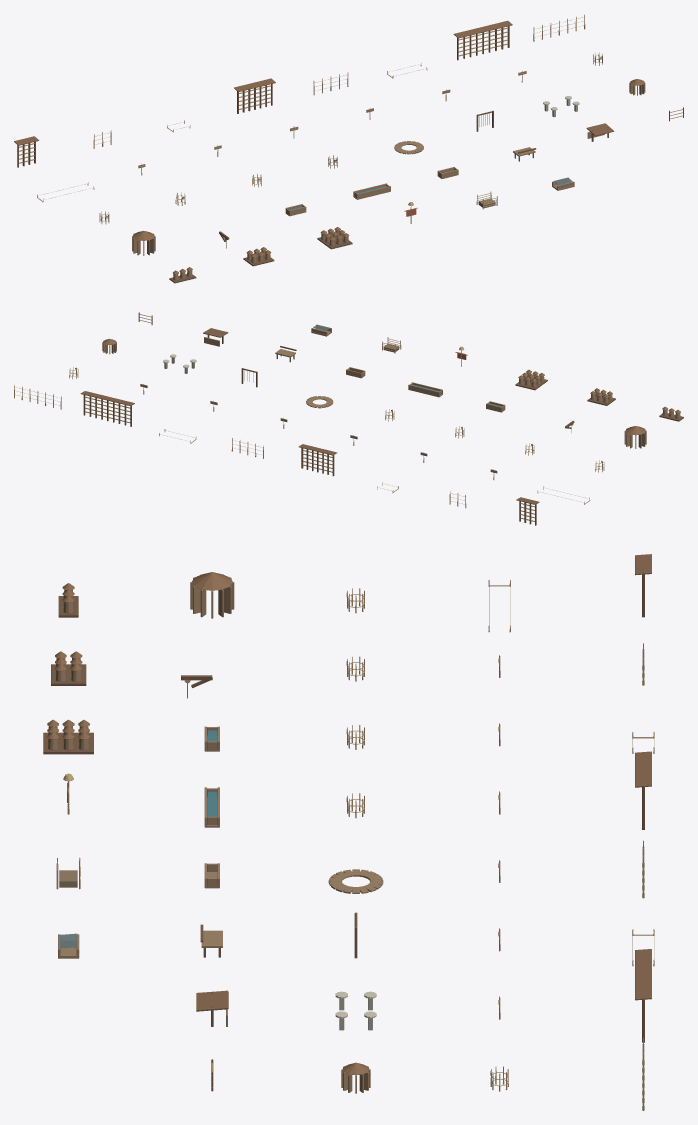
The model's file is agriculture.glb.
3 views of the same model, one above another, from view 1: azimuth 30°, elevation 25°; view 2: azimuth 150°, elevation 25°; view 3: azimuth 270°, elevation 25° (orthographic). The views are drawn at different scales.
Visible parts, largest first — view 1: GK_agri_hayrack_6m, GK_agri_hayrack_4m, GK_agri_apiary_stand_9, GK_agri_grain_bin_large, GK_agri_hayrack_2m; view 2: GK_agri_hayrack_6m, GK_agri_hayrack_4m, GK_agri_apiary_stand_9, GK_agri_grain_bin_large, GK_agri_hayrack_2m; view 3: GK_agri_grain_bin_large, GK_agri_apiary_stand_9, GK_agri_apiary_stand_6, GK_agri_hayrack_6m, GK_agri_threshed_floor_round.
Boxes of the visible parts, bbox=[...] form: GK_agri_hayrack_6m: bbox=[453, 20, 512, 60]; GK_agri_hayrack_4m: bbox=[234, 78, 275, 113]; GK_agri_apiary_stand_9: bbox=[317, 227, 352, 249]; GK_agri_grain_bin_large: bbox=[132, 230, 155, 255]; GK_agri_hayrack_2m: bbox=[14, 136, 39, 167]; GK_agri_hayrack_6m: bbox=[80, 391, 134, 426]; GK_agri_hayrack_4m: bbox=[298, 444, 337, 476]; GK_agri_apiary_stand_9: bbox=[515, 369, 547, 390]; GK_agri_grain_bin_large: bbox=[624, 426, 646, 448]; GK_agri_hayrack_2m: bbox=[516, 497, 539, 525]; GK_agri_grain_bin_large: bbox=[190, 572, 234, 618]; GK_agri_apiary_stand_9: bbox=[43, 719, 93, 754]; GK_agri_apiary_stand_6: bbox=[51, 651, 86, 685]; GK_agri_hayrack_6m: bbox=[635, 949, 651, 1042]; GK_agri_threshed_floor_round: bbox=[328, 869, 383, 893].
Size of the model in its own units: 69.11 by 4.11 by 34.04.
